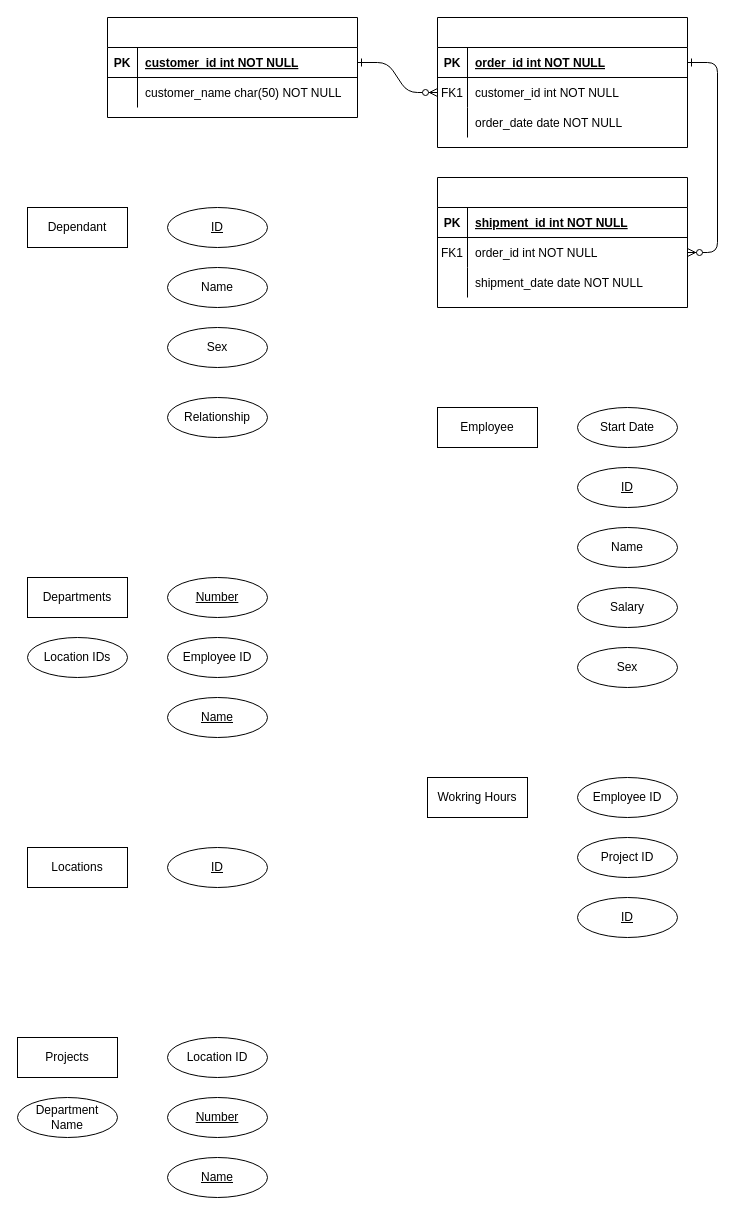
Some shapes in this 744 by 1215 pixel diagram are drawn without their labels. The shapes that lost their labels are listed below. From the top down, each one's box as (x1, y1, x2, y2) in pixels, then its label:
(106, 16, 358, 118): Customers
(436, 16, 688, 148): Orders
(436, 176, 688, 308): Shipments
